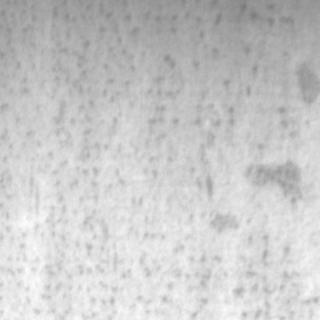pitted_surface: (1, 0, 290, 314), (218, 58, 316, 316)
